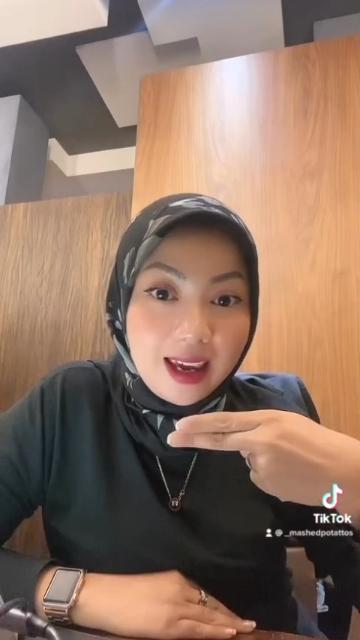H: (163, 403, 360, 516)
